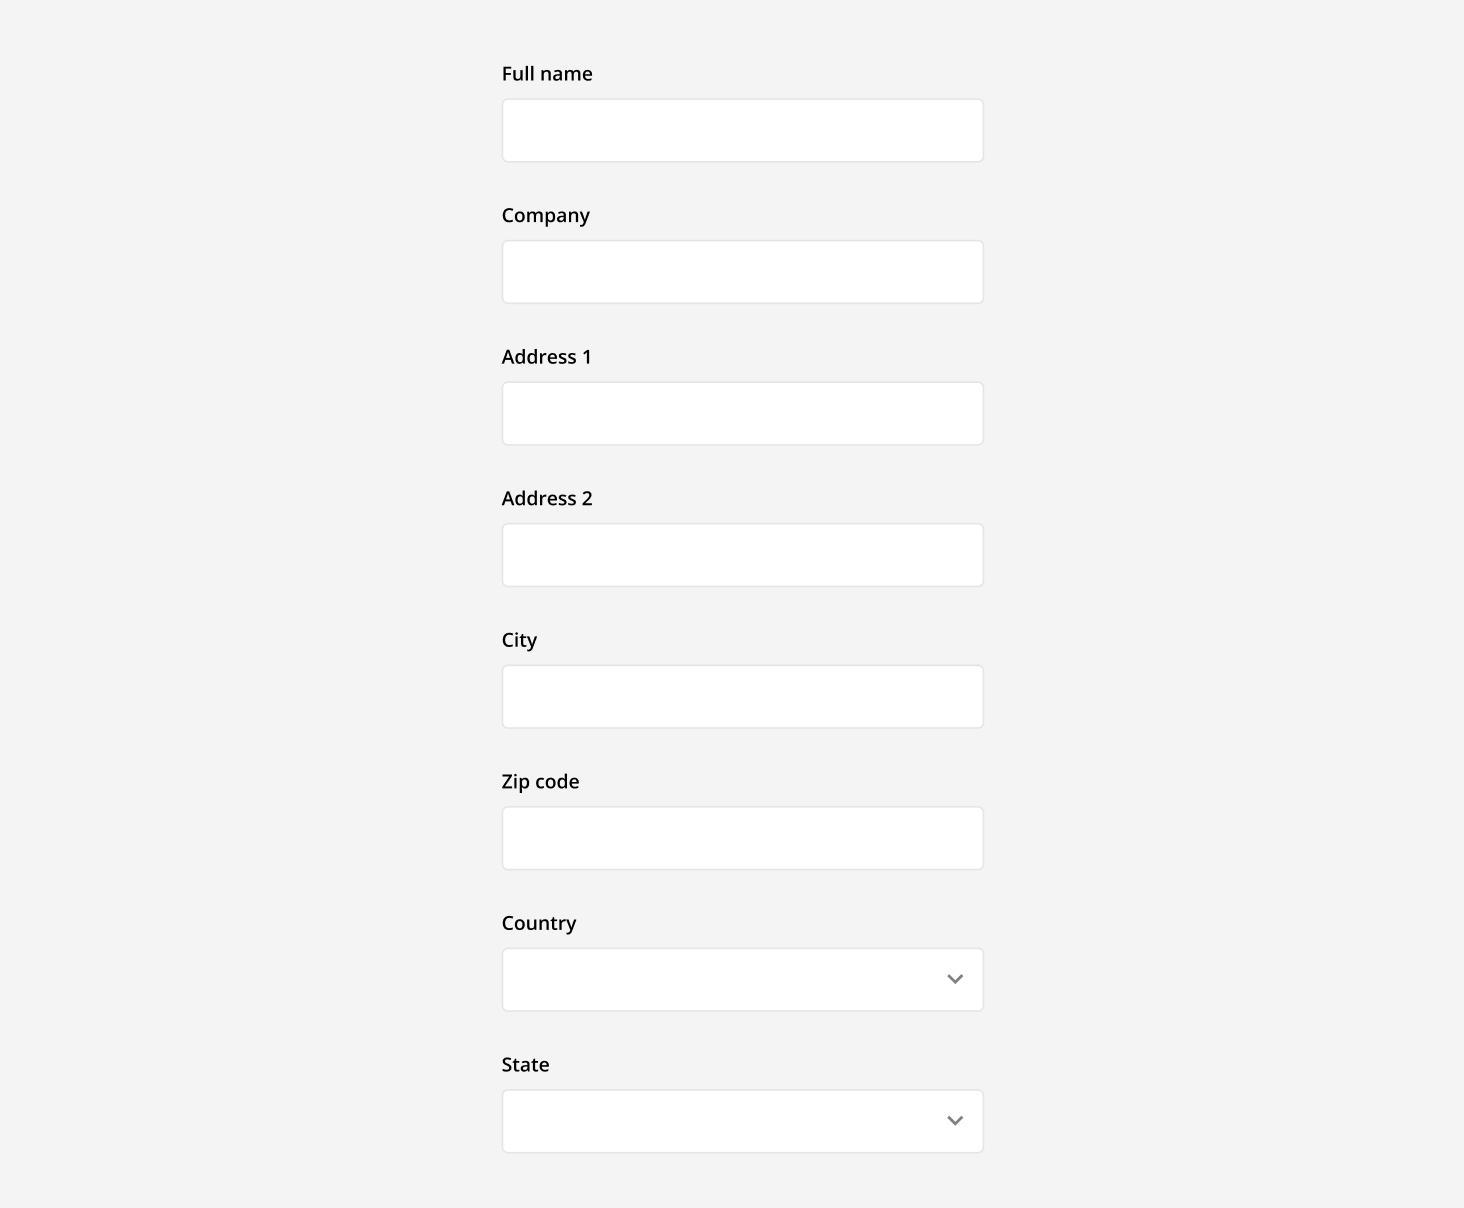dropdown: (500, 948, 989, 1015), (500, 1089, 982, 1154)
input: (501, 383, 985, 450), (508, 96, 982, 164), (502, 527, 987, 591), (503, 811, 987, 876), (502, 669, 982, 734), (506, 245, 989, 307)
label: (492, 196, 599, 231), (496, 763, 586, 796), (499, 58, 598, 88), (499, 906, 582, 938), (499, 489, 598, 515), (499, 344, 598, 369), (499, 1051, 553, 1081), (499, 627, 544, 653)
